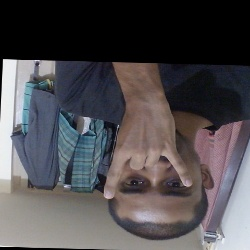hand: (106, 99, 194, 216)
